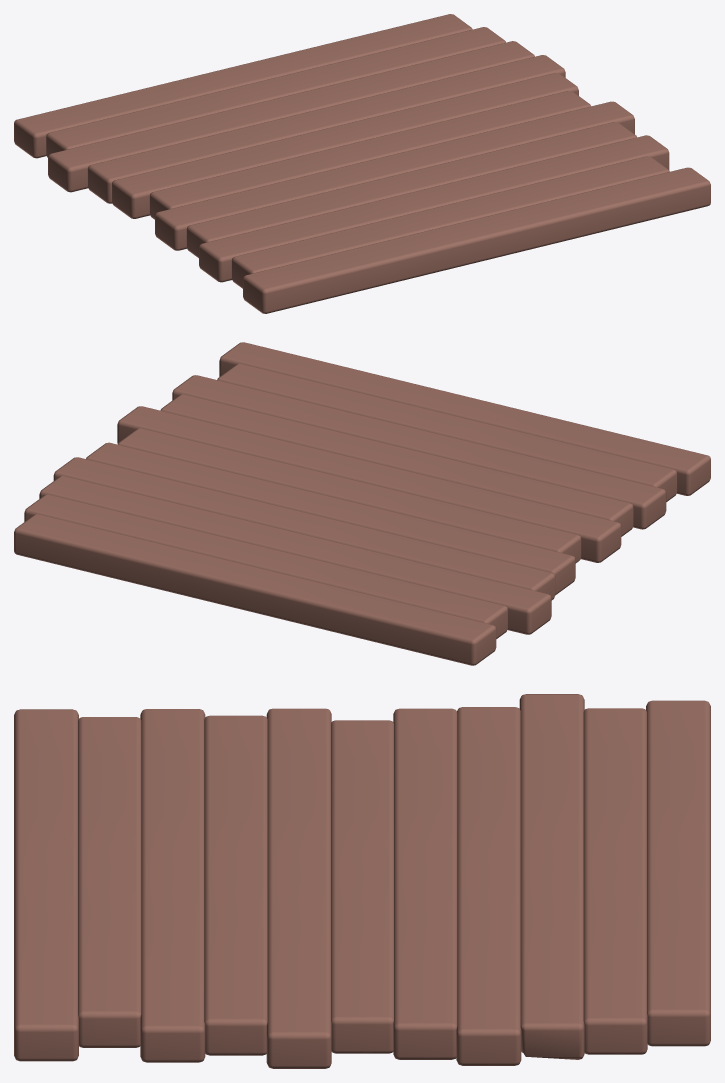
The model's file is Farm_1_Platform_1.glb.
3 views of the same model, one above another, from view 1: azimuth 30°, elevation 25°; view 2: azimuth 150°, elevation 25°; view 3: azimuth 270°, elevation 25° (orthographic). The views are drawn at different scales.
Parts seen in each view (by area): view 1: Farm_1_Platform_1; view 2: Farm_1_Platform_1; view 3: Farm_1_Platform_1.
Boxes of the visible parts, x1,y1,x2,y2 form: Farm_1_Platform_1: [14, 14, 710, 313]; Farm_1_Platform_1: [14, 342, 710, 665]; Farm_1_Platform_1: [14, 694, 710, 1068].
Bounding box in the file's own units: 11.37 × 0.5728 × 9.78.
Materials: 1 (1 with a texture image).
